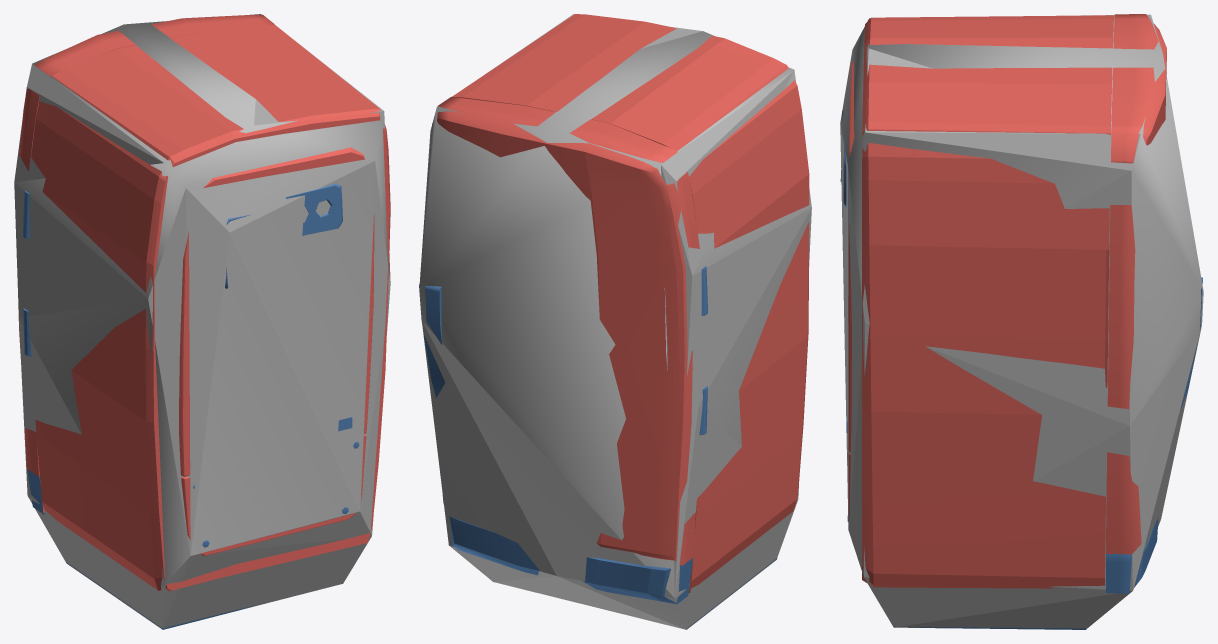
The model's file is fridge.fbx.
The picture shows the model from 3 angles, left to right: view 1: azimuth 30°, elevation 25°; view 2: azimuth 150°, elevation 25°; view 3: azimuth 270°, elevation 25°; orthographic projection. The views are drawn at different scales.
Parts seen in each view (by area): view 1: c_fridge, fridge; view 2: c_fridge, fridge; view 3: fridge, c_fridge.
Boxes of the visible parts, bbox=[...] form: c_fridge: bbox=[14, 14, 390, 629]; fridge: bbox=[18, 14, 390, 629]; c_fridge: bbox=[419, 14, 811, 629]; fridge: bbox=[419, 14, 809, 629]; fridge: bbox=[840, 14, 1202, 629]; c_fridge: bbox=[840, 14, 1203, 629].
Size of the model in its own units: 106 by 190 by 118.
